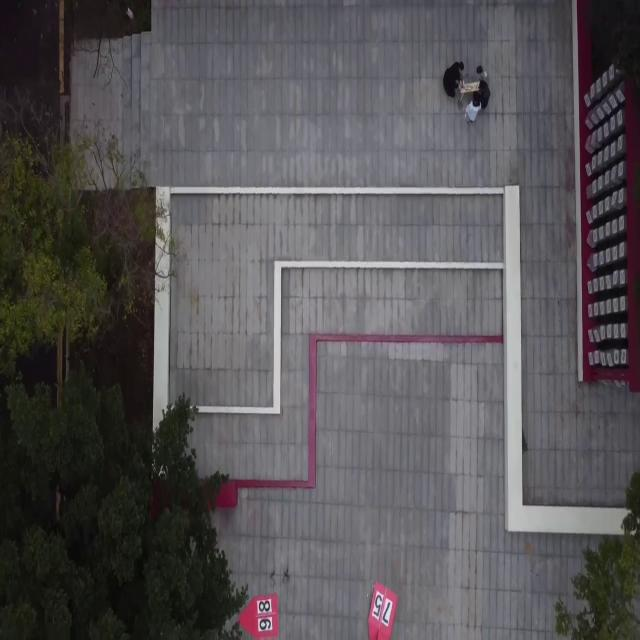-sign-: (237, 589, 288, 640), (366, 569, 400, 640)
